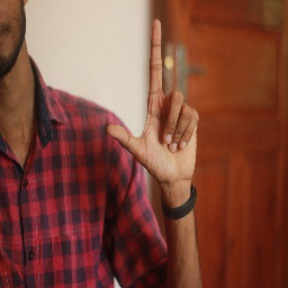L: (105, 20, 204, 177)
